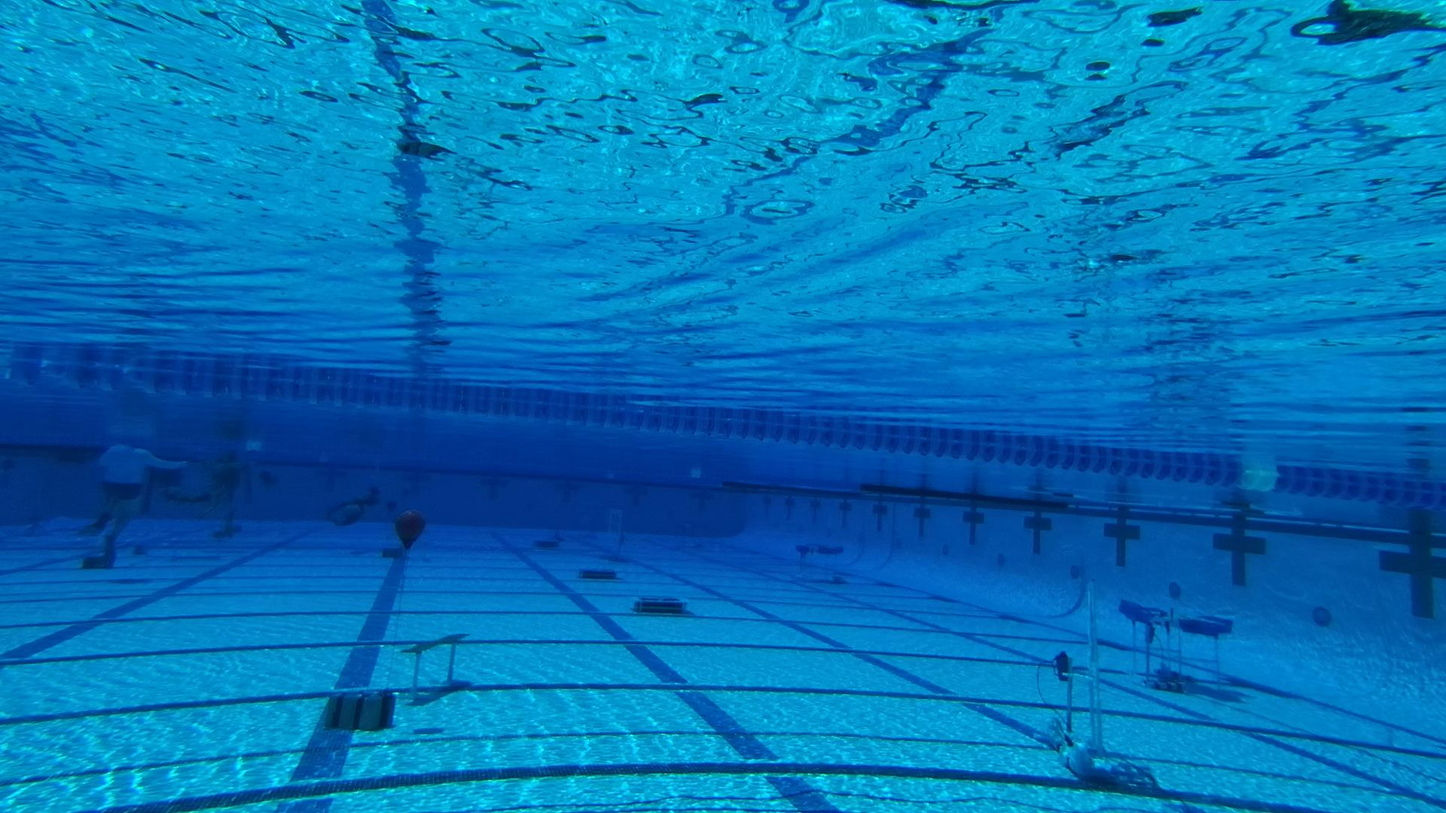buoy: (393, 508, 425, 549)
coral-box-side: (1117, 602, 1235, 693), (795, 545, 842, 581), (674, 519, 706, 551)
dropper-box-side: (633, 595, 689, 613), (575, 568, 619, 579), (533, 541, 559, 548)
path: (400, 628, 474, 702)
red octagon: (615, 517, 619, 522), (615, 526, 619, 531), (612, 515, 614, 519), (612, 525, 613, 530)
